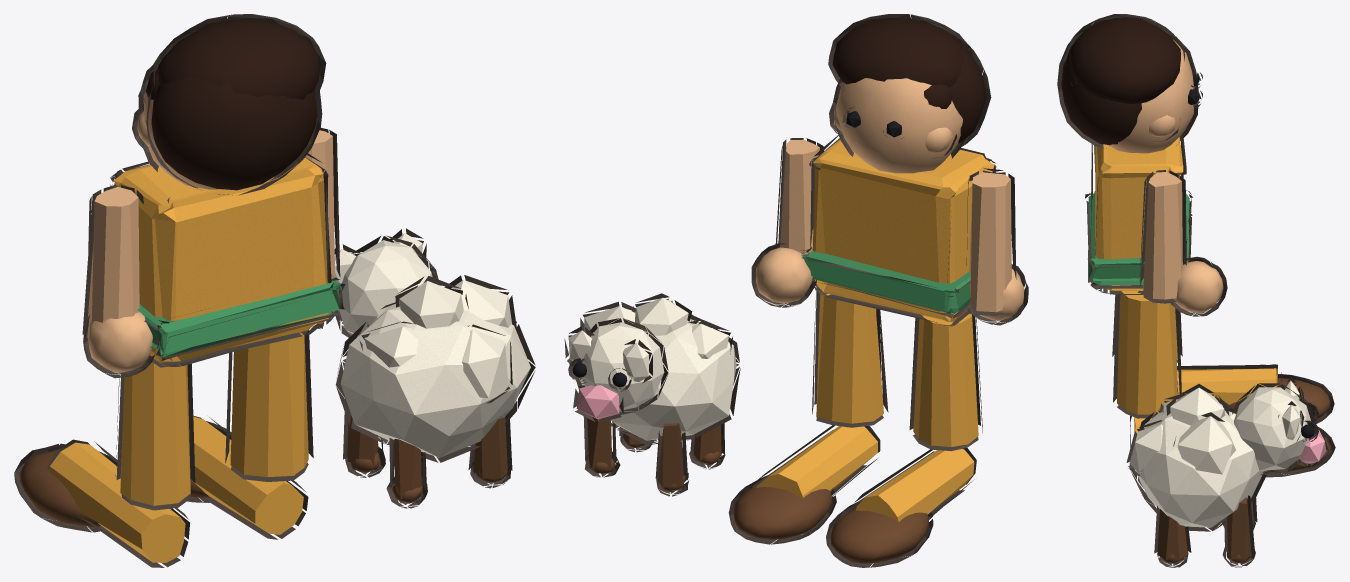
File: david_mentor_v6.glb
3 renders of one model, left to right at view 1: azimuth 30°, elevation 25°; view 2: azimuth 150°, elevation 25°; view 3: azimuth 270°, elevation 25°, orthographic. The views are drawn at different scales.
Parts seen in each view (by area): view 1: David_Mentor, David_Mentor_Outline; view 2: David_Mentor, David_Mentor_Outline; view 3: David_Mentor, David_Mentor_Outline.
Boxes of the visible parts, left/top/right/bottom form: David_Mentor: left=19, top=19, right=530, bottom=562; David_Mentor_Outline: left=14, top=14, right=535, bottom=567; David_Mentor: left=568, top=18, right=1024, bottom=563; David_Mentor_Outline: left=564, top=14, right=1028, bottom=567; David_Mentor: left=1061, top=18, right=1331, bottom=563; David_Mentor_Outline: left=1057, top=14, right=1335, bottom=567.
Size of the model in its own units: 0.9128 by 1.01 by 0.5881.
Materials: 9 (8 with a texture image).
